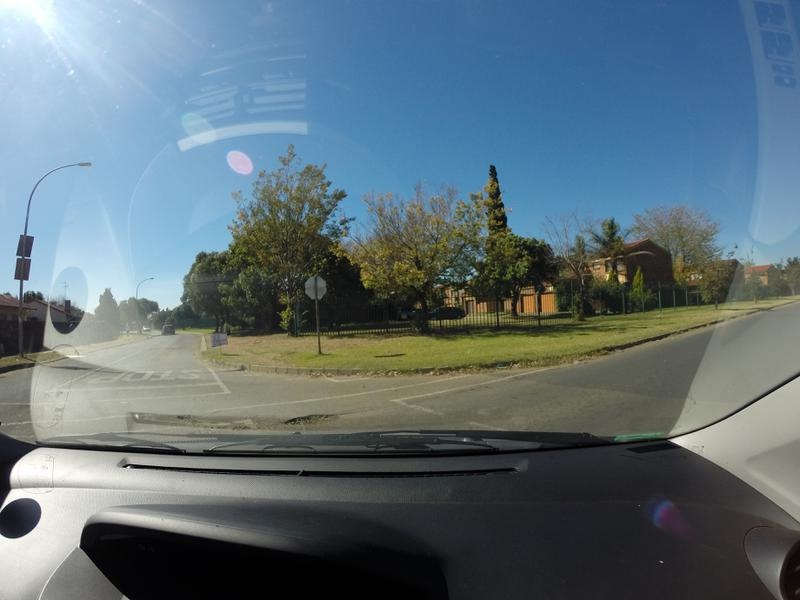pothole: (276, 410, 336, 426)
